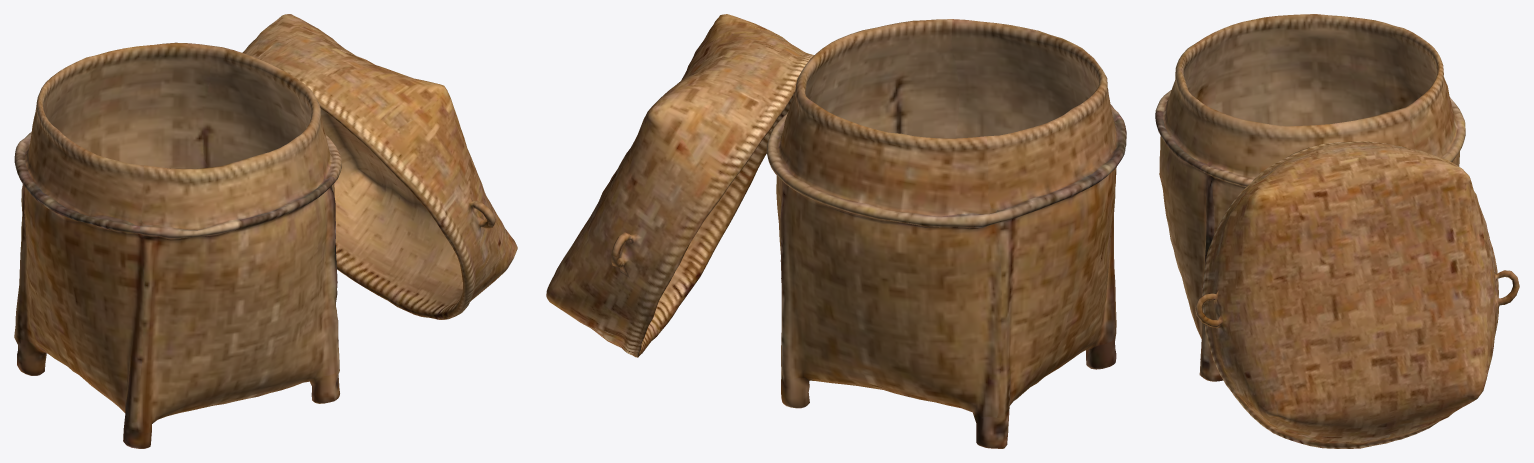
The model's file is basket-rattan.glb.
The picture shows the model from 3 angles, left to right: view 1: azimuth 30°, elevation 25°; view 2: azimuth 150°, elevation 25°; view 3: azimuth 270°, elevation 25°; orthographic projection. The views are drawn at different scales.
Visible parts, largest first — view 1: wicker_basket_02_base; view 2: wicker_basket_02_base; view 3: wicker_basket_02_base.
Boxes of the visible parts, box(x1,y1,x2,y2) form: wicker_basket_02_base: box(14, 14, 517, 448); wicker_basket_02_base: box(546, 14, 1126, 448); wicker_basket_02_base: box(1155, 14, 1519, 448).
Bounding box in the file's own units: 0.3737 × 0.22 × 0.2697.
Materials: 1 (1 with a texture image).
